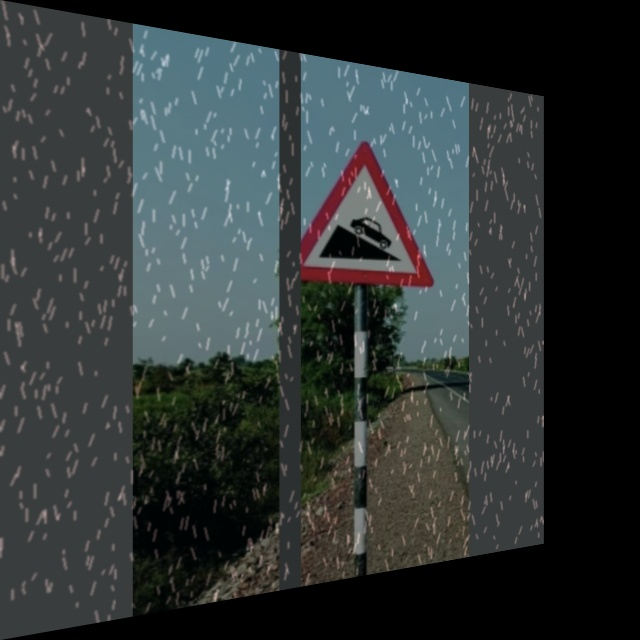Steep_Descent: (286, 131, 433, 290)
